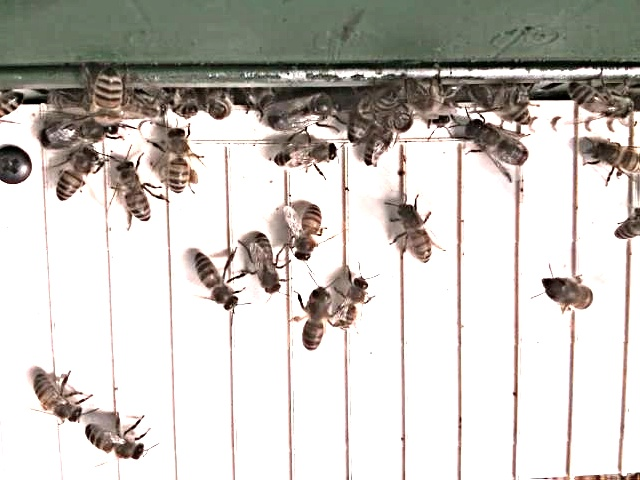Drone: (266, 89, 350, 136), (463, 119, 533, 172), (35, 113, 123, 154)
Worker: (31, 370, 86, 425), (394, 198, 436, 270), (54, 145, 102, 207), (85, 421, 151, 465), (194, 251, 240, 314), (299, 283, 335, 354), (268, 139, 339, 174), (290, 201, 326, 267), (118, 160, 154, 226), (251, 234, 286, 297), (334, 274, 370, 335), (165, 127, 196, 197), (590, 139, 640, 176)
